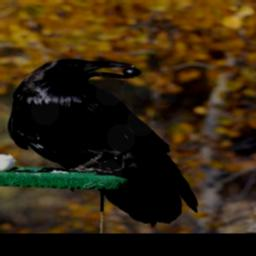Crow: (6, 58, 198, 226)
